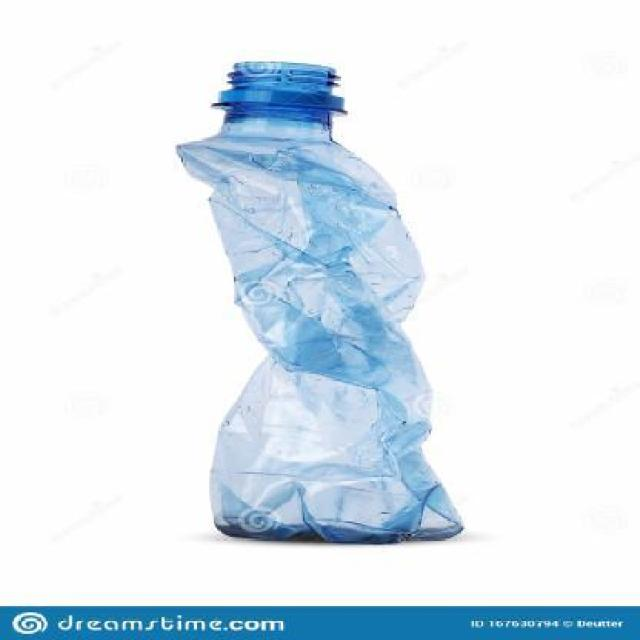bottle: (118, 37, 500, 549)
